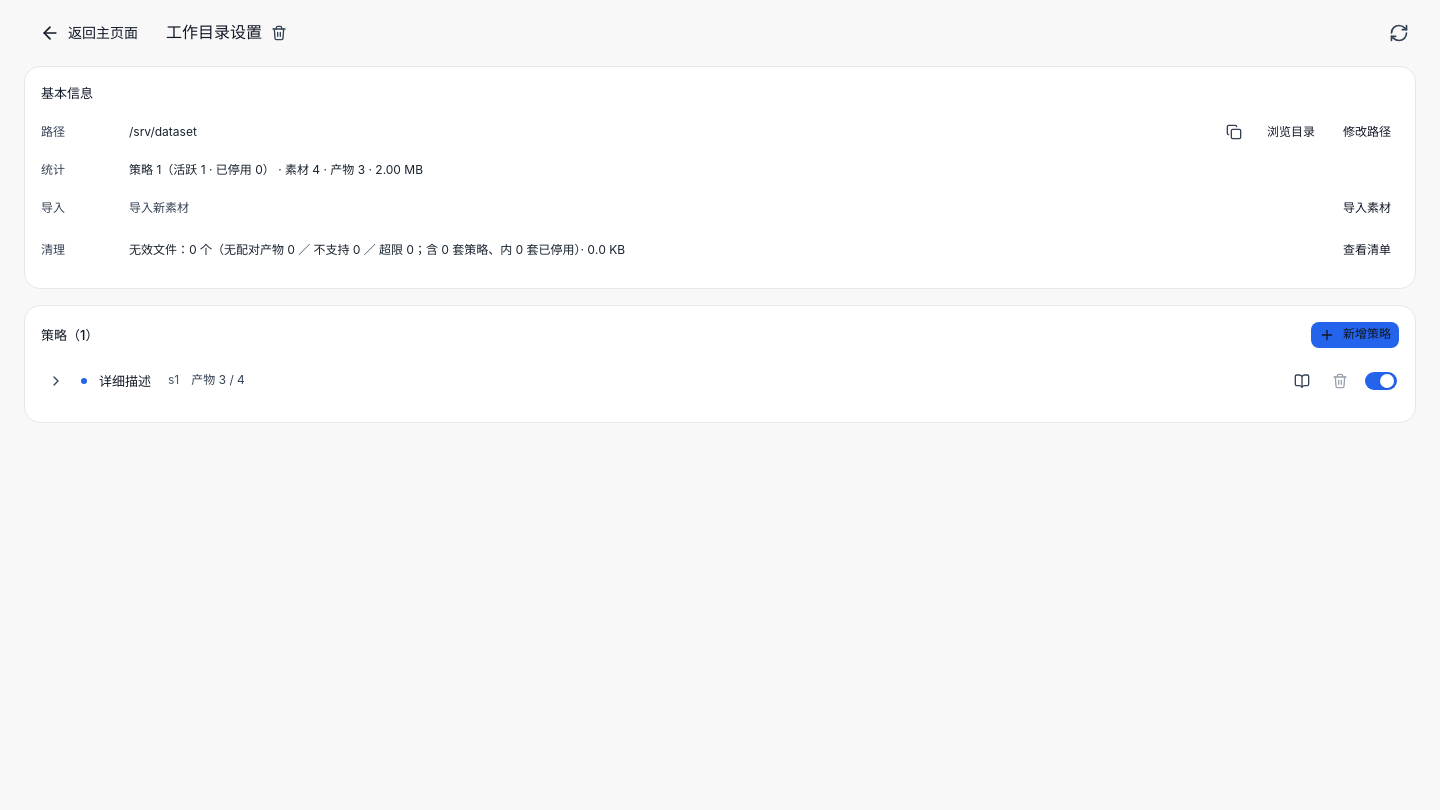
it: 停用运行中的策略先弹确认，失败保留活跃状态并可重试成功
Click the switch named "启用 详细描述": [1381, 381] box [1365,372,1397,390]
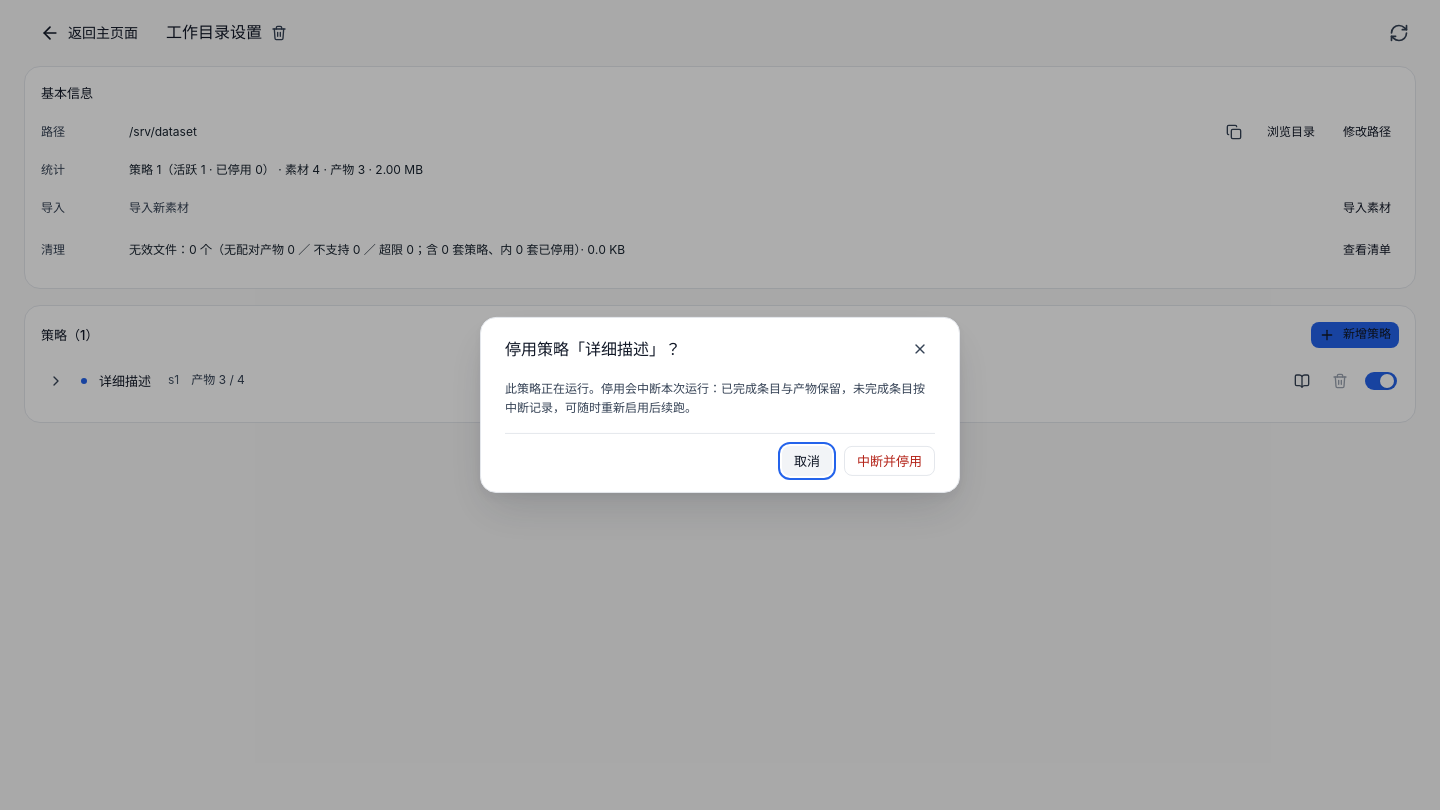
Result: the text "此策略正在运行。停用会中断本次运行：已完成条目与产物保留，未完成条目按中断记录，可随时重新启用后续跑。" is shown at [505,380,935,417]
Click the button "中断并停用": [890, 461] box [844,446,935,476]
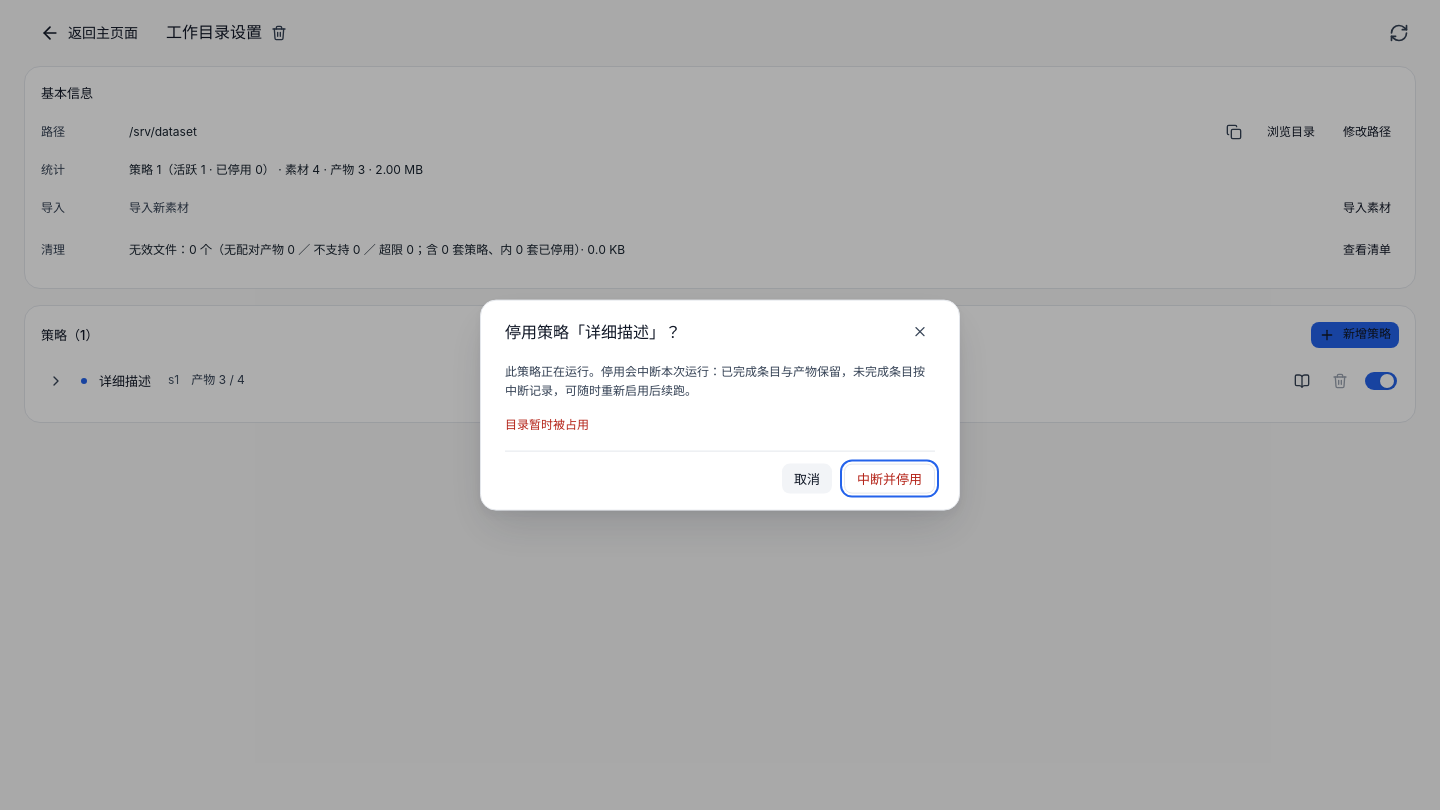
Expected: the picture named "运行中" is shown, [81,378,87,384]
Result: the message reads "目录暂时被占用" at [505,417,589,432]
钮文字不换词（飞行期只失效），文案恒「中断并停用」。
Click the button "中断并停用": [890, 478] box [844,463,935,493]
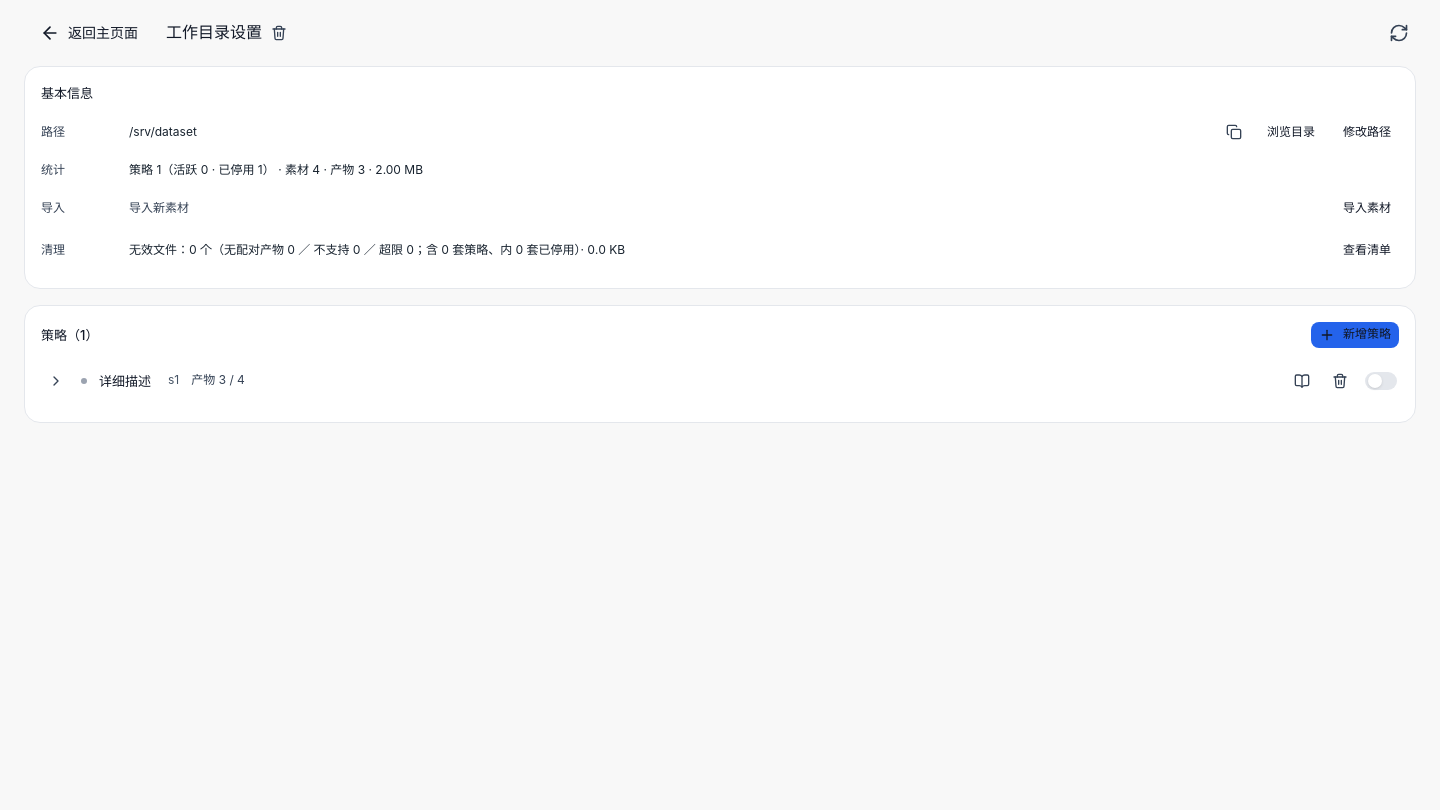
Result: the picture named "已停用" is shown at [81,378,87,384]
Result: the dialog is gone
